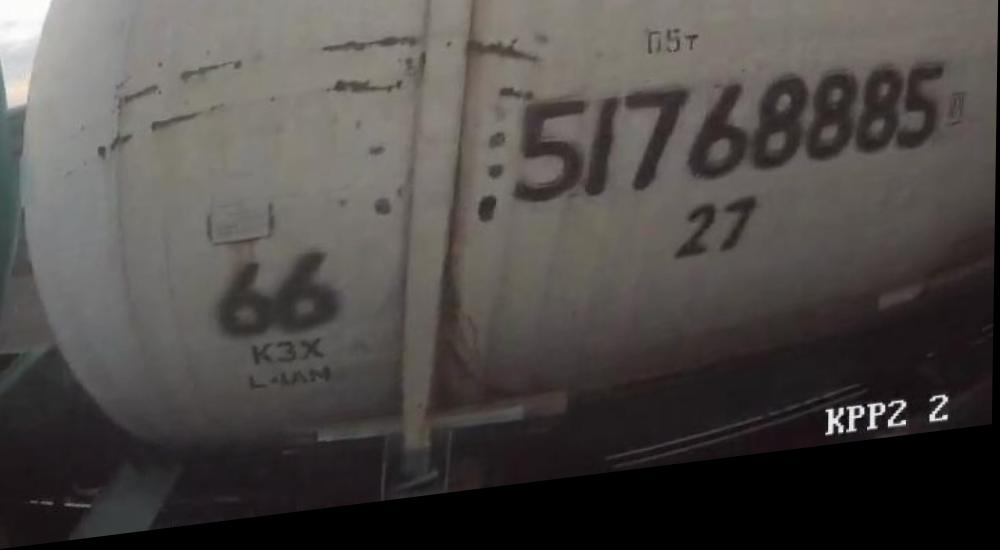Wagon-number: (511, 70, 946, 226)
